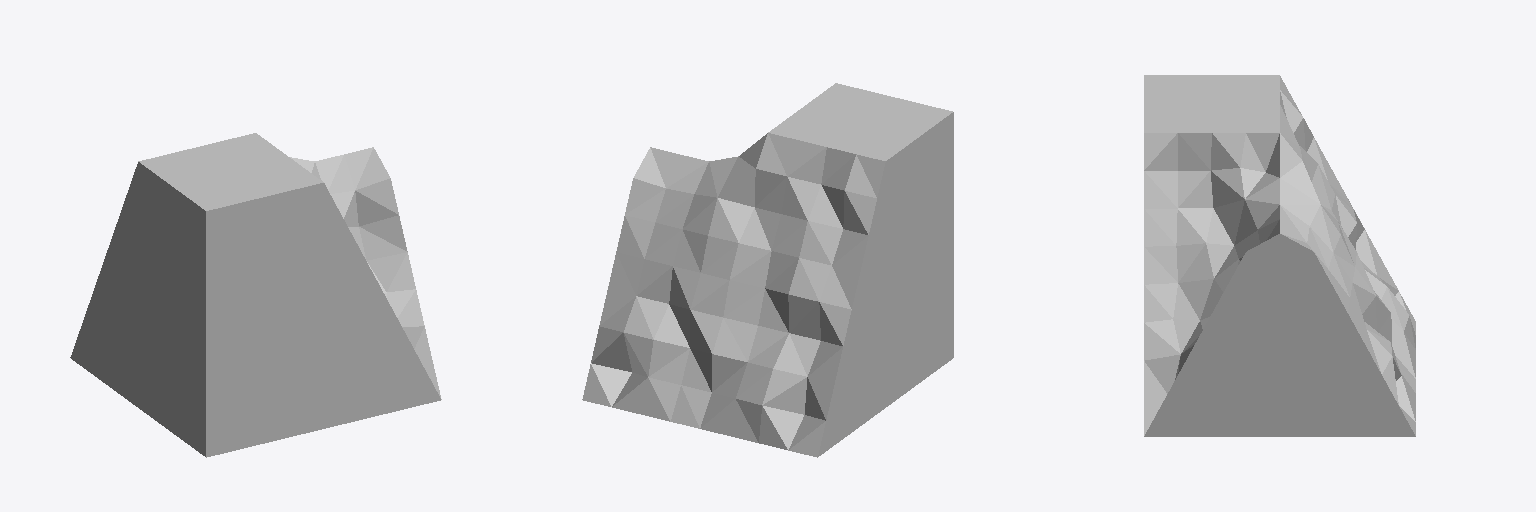
File: wall_single_edge_right.obj
3 renders of one model, left to right at view 1: azimuth 30°, elevation 25°; view 2: azimuth 150°, elevation 25°; view 3: azimuth 270°, elevation 25°, orthographic.
Parts seen in each view (by area): view 1: Cube.007_Cube.008; view 2: Cube.007_Cube.008; view 3: Cube.007_Cube.008.
Boxes of the visible parts, x1=… form: Cube.007_Cube.008: x1=70, y1=133, x2=441, y2=457; Cube.007_Cube.008: x1=582, y1=83, x2=953, y2=457; Cube.007_Cube.008: x1=1144, y1=75, x2=1415, y2=436.
Size of the model in its own units: 1 by 1 by 1.